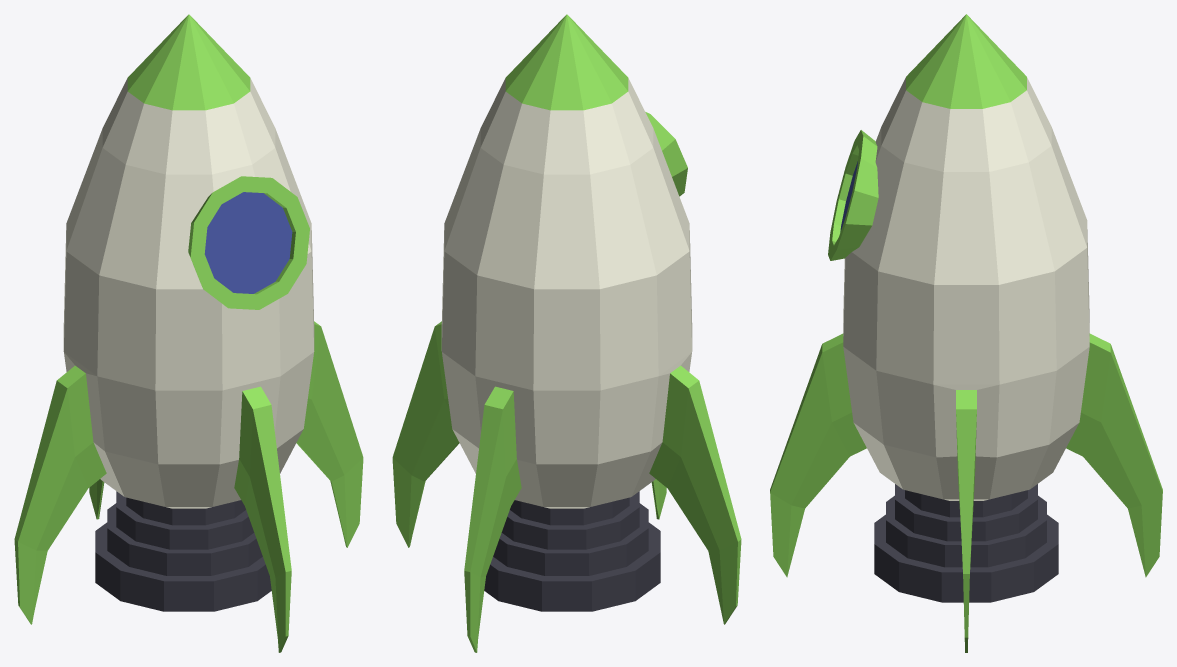
File: Rocket.fbx
3 views of the same model, side by side, from view 1: azimuth 30°, elevation 25°; view 2: azimuth 150°, elevation 25°; view 3: azimuth 270°, elevation 25° (orthographic).
Parts seen in each view (by area): view 1: Rocket; view 2: Rocket; view 3: Rocket.
Part boxes in pixels (x1,y1,x2,y2): Rocket: (14, 14, 363, 652); Rocket: (392, 14, 741, 652); Rocket: (770, 14, 1162, 652).
Size of the model in its own units: 289 by 458 by 289.
Materials: 1 (1 with a texture image).
